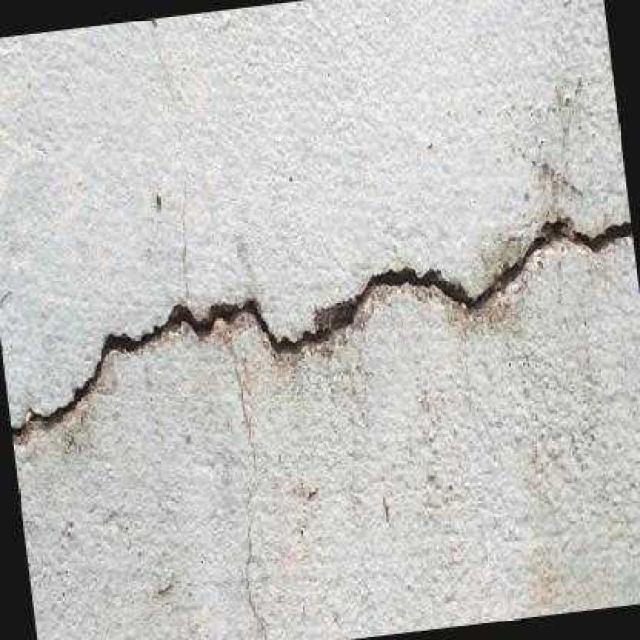D00: (10, 215, 632, 444)
